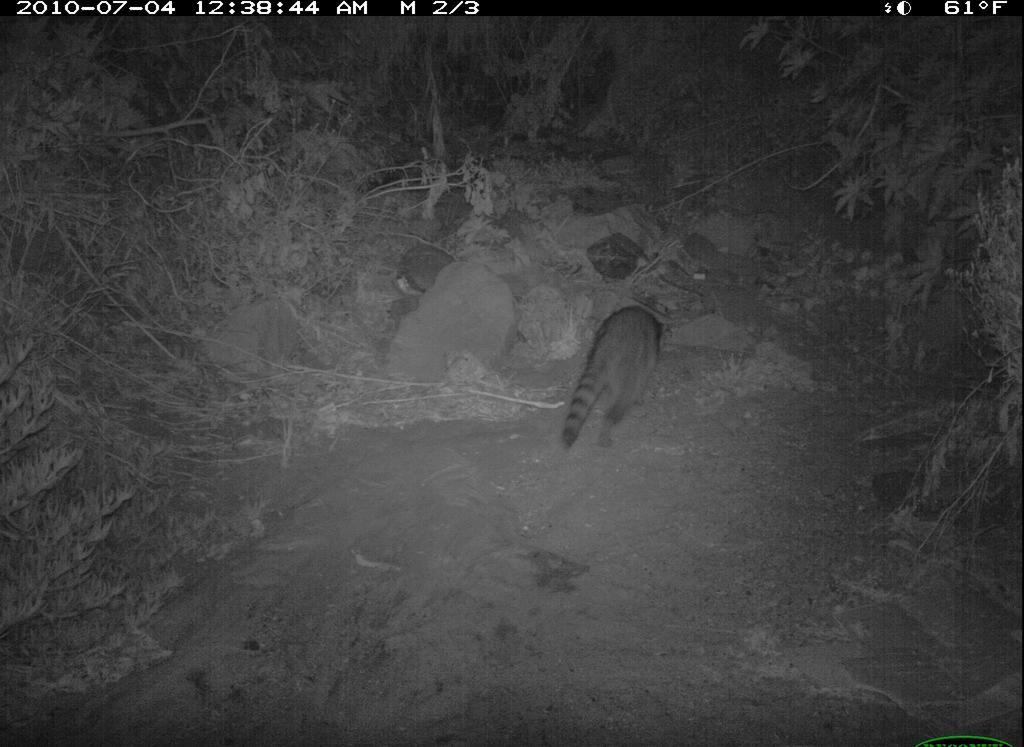raccoon: (548, 297, 689, 463)
